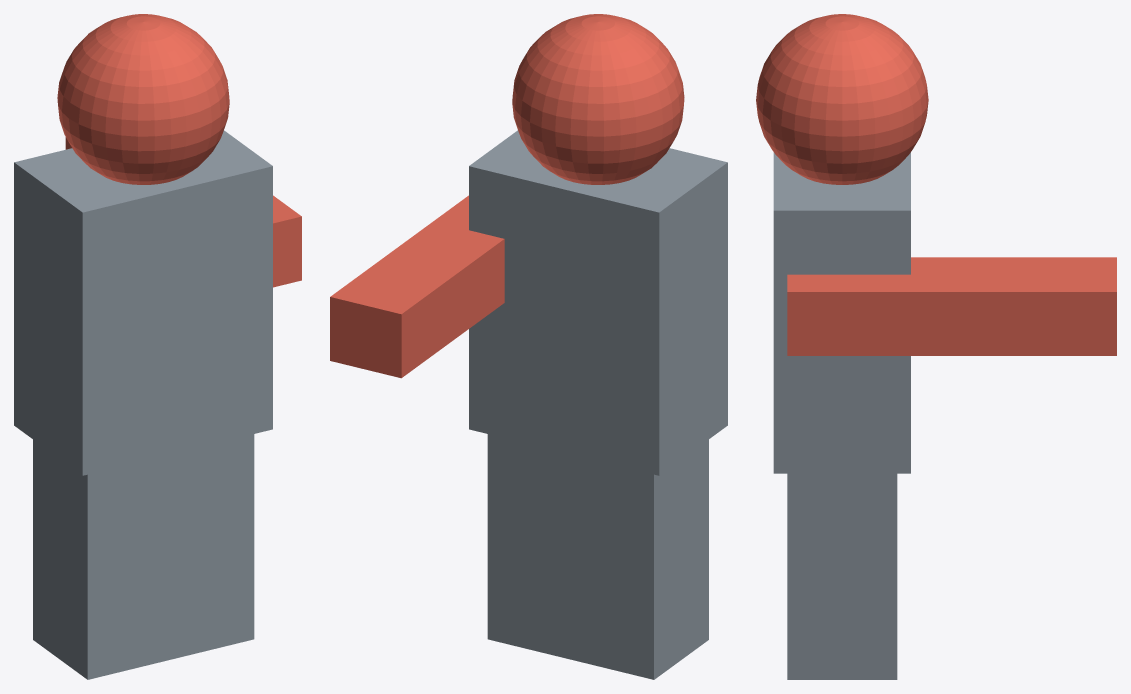
File: SU_Hero_Morozova_LOD0.glb
3 views of the same model, side by side, from view 1: azimuth 30°, elevation 25°; view 2: azimuth 150°, elevation 25°; view 3: azimuth 270°, elevation 25° (orthographic).
Parts seen in each view (by area): view 1: Head; view 2: Head; view 3: Head.
Part boxes in pixels (x1,y1,x2,y2): Head: [14, 14, 301, 679]; Head: [330, 14, 727, 679]; Head: [756, 14, 1116, 679].
Size of the model in its own units: 66.5 by 174 by 92.
